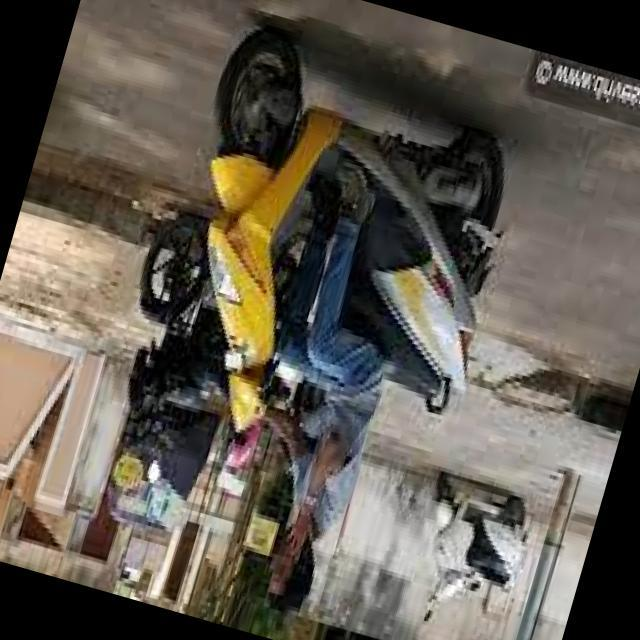USING_MOBILE: (278, 434, 344, 570)
